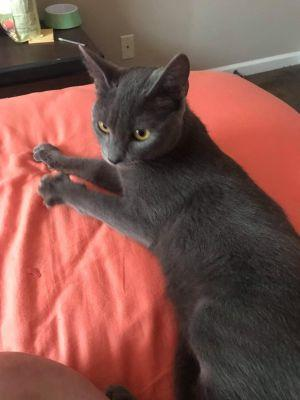rblue: (72, 34, 200, 181)
